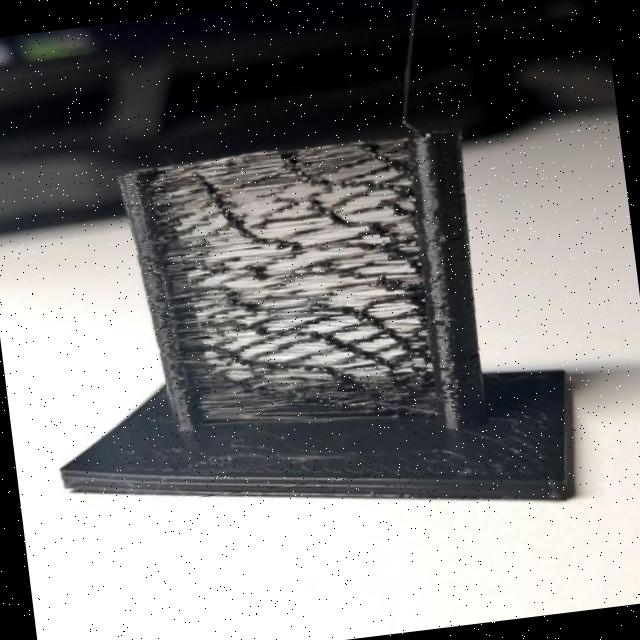stringing: (135, 134, 458, 446)
